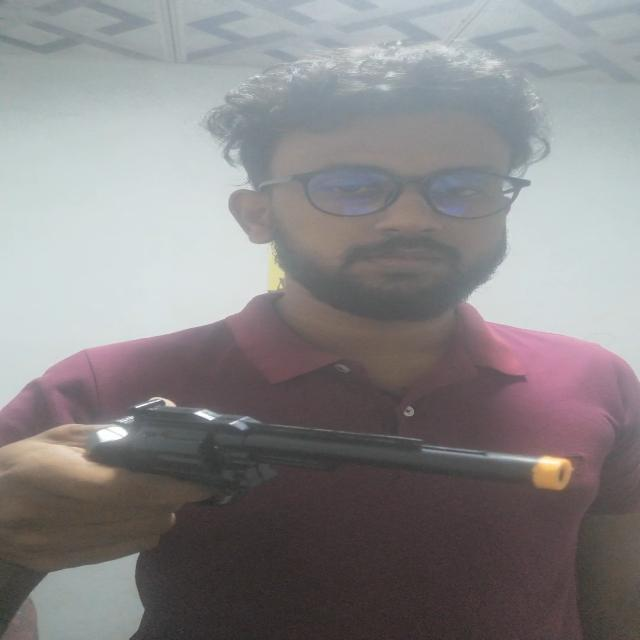Gun_Holder: (3, 385, 640, 615)
Person: (0, 49, 640, 640)
